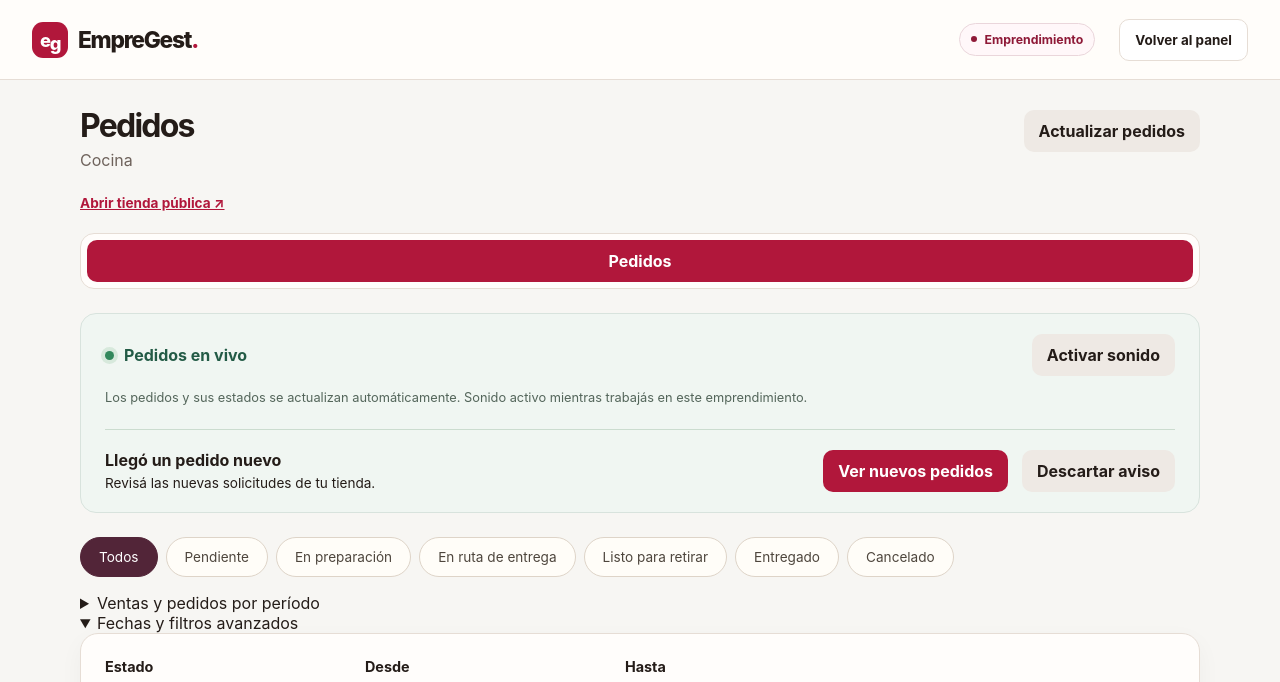
Test: eventos nuevos se deduplican; actualización y reconexión no son pedidos nuevos
This screenshot has width=1280, height=682.
Expected: the text "Llegó un pedido nuevo" is shown, [105, 450, 281, 470]
Click the button "Ver nuevos pedidos". click: click(916, 471)
box: [823, 450, 1008, 492]
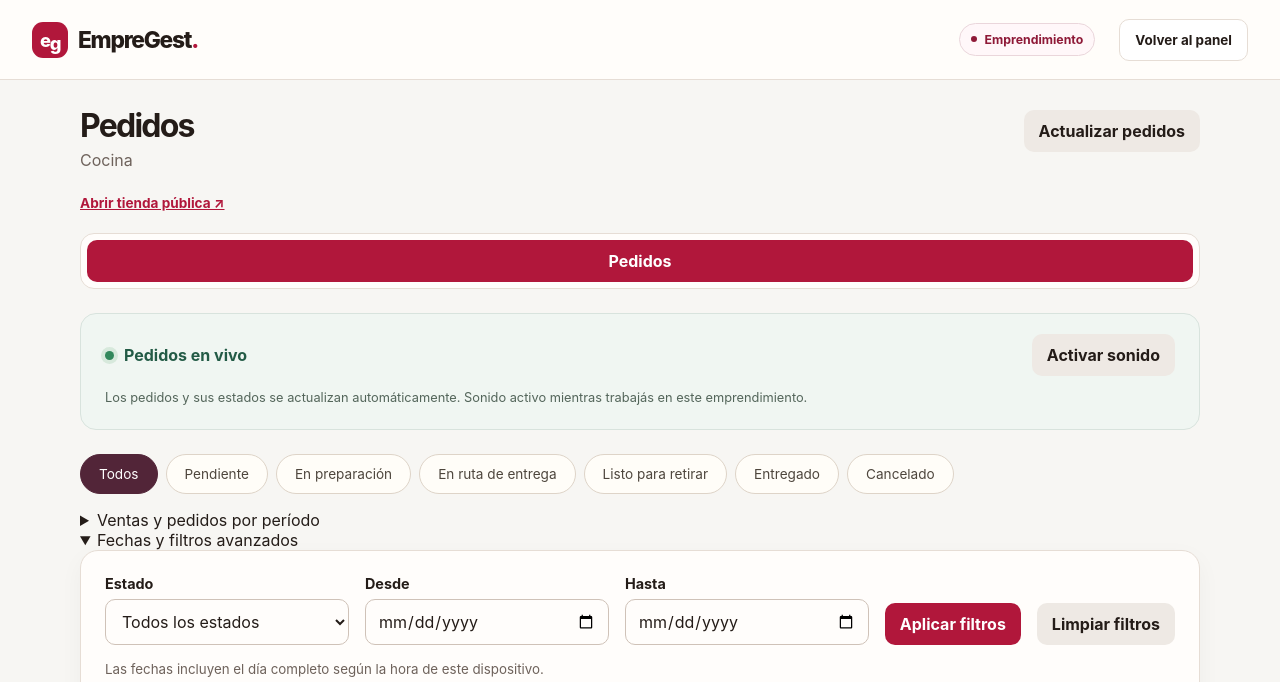
Expected: the text "Llegó un pedido nuevo" is gone
